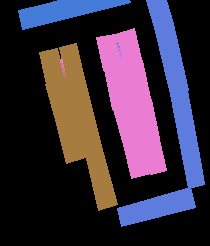parkingspot: (170, 90, 204, 188), (18, 0, 130, 29), (117, 187, 195, 226), (153, 19, 188, 94), (86, 153, 117, 210), (113, 103, 142, 148), (56, 118, 85, 163), (45, 78, 74, 123), (104, 64, 132, 109), (65, 74, 93, 118), (75, 114, 103, 158), (123, 60, 150, 103), (133, 99, 159, 142), (115, 28, 141, 64), (124, 142, 150, 178), (96, 34, 122, 70), (39, 48, 64, 84), (59, 43, 83, 79), (142, 139, 166, 174), (146, 0, 172, 24)
